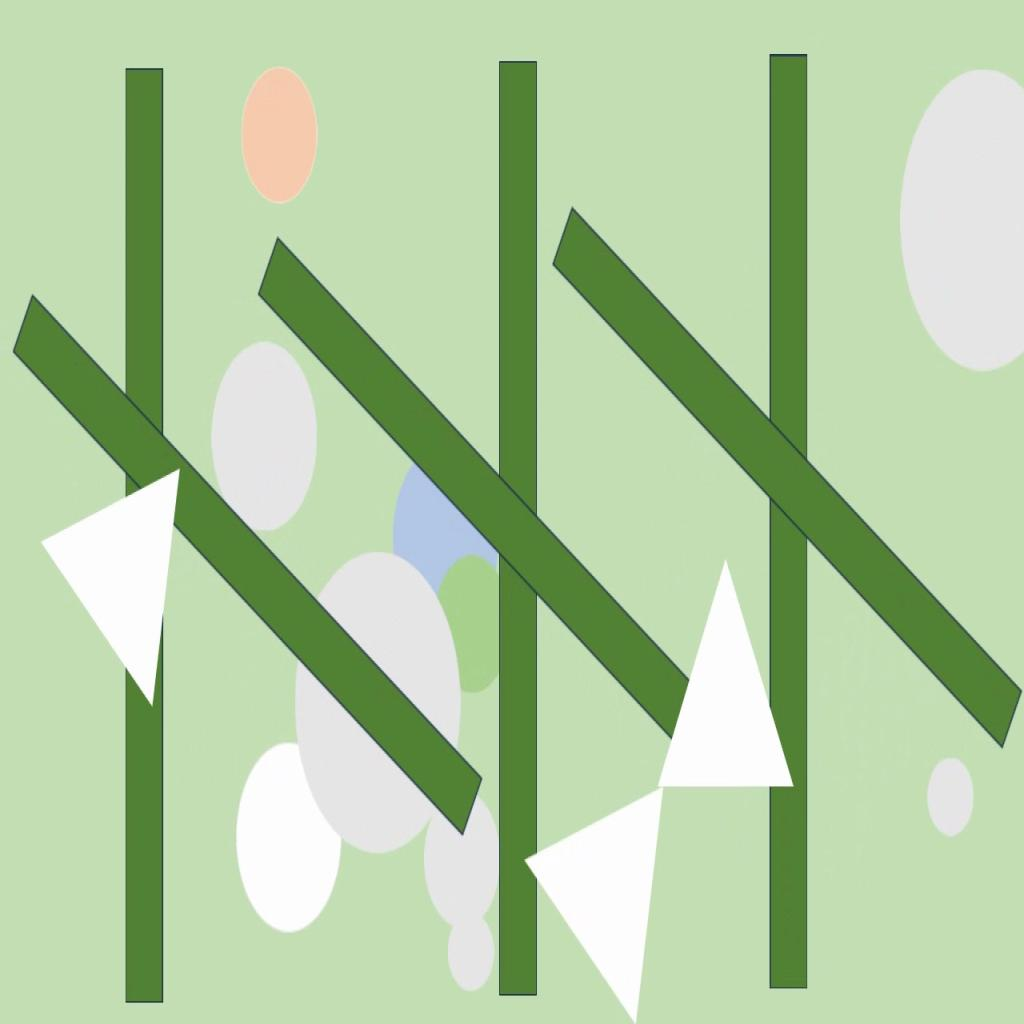Circle: (294, 550, 462, 854), (901, 64, 1024, 374), (392, 450, 509, 632), (210, 340, 318, 534), (234, 742, 342, 930), (240, 64, 319, 204), (431, 558, 506, 695), (425, 794, 500, 926), (928, 754, 975, 838), (446, 915, 493, 994)
